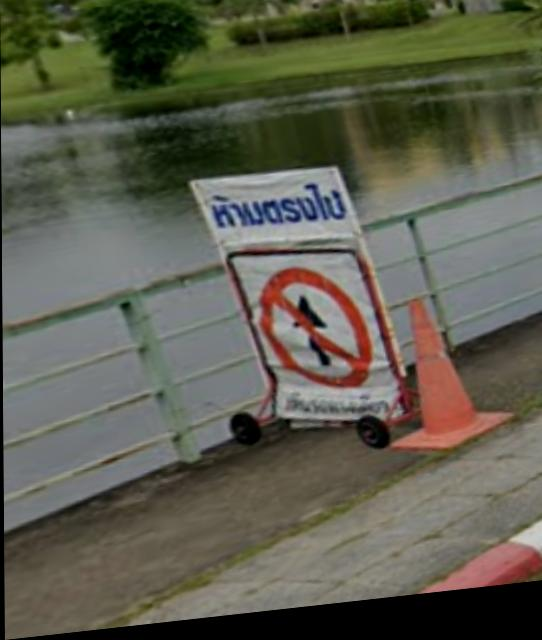not_go_straight: (253, 260, 381, 411)
